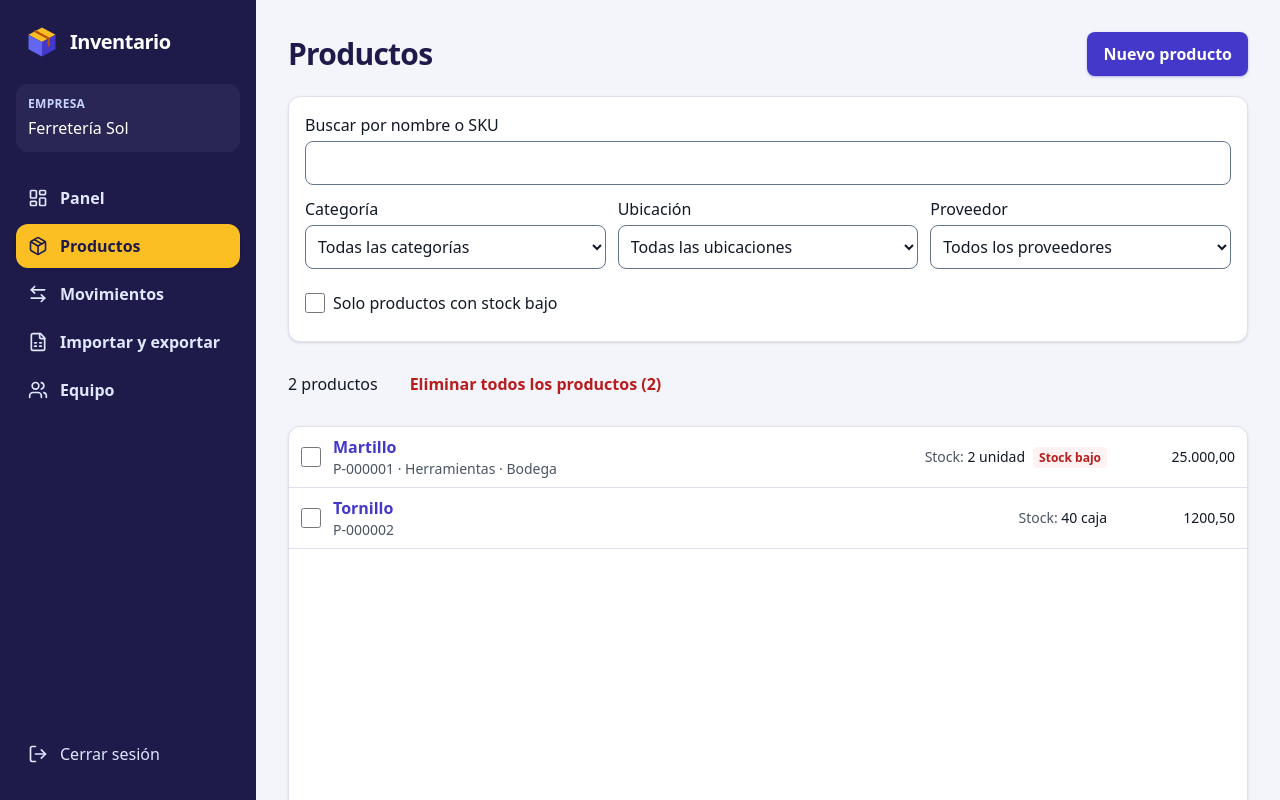
Productos › filtra por stock bajo en el servidor
Expected: the text "2 productos" is shown, [288,372,378,396]
Step 1. Click the checkbox labelled "Solo productos con stock bajo" → (315, 303), box [305,293,325,313]
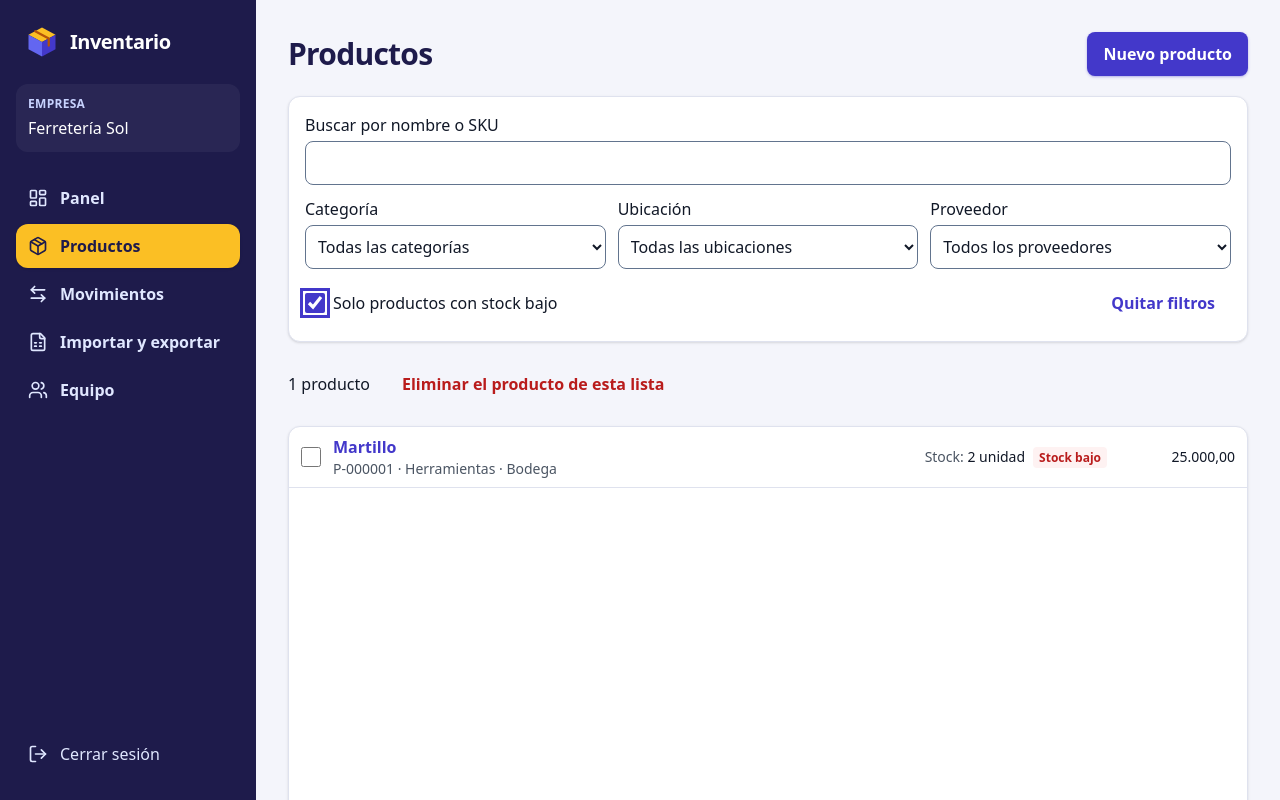
Result: the text "1 producto" is shown at [288,372,370,396]
